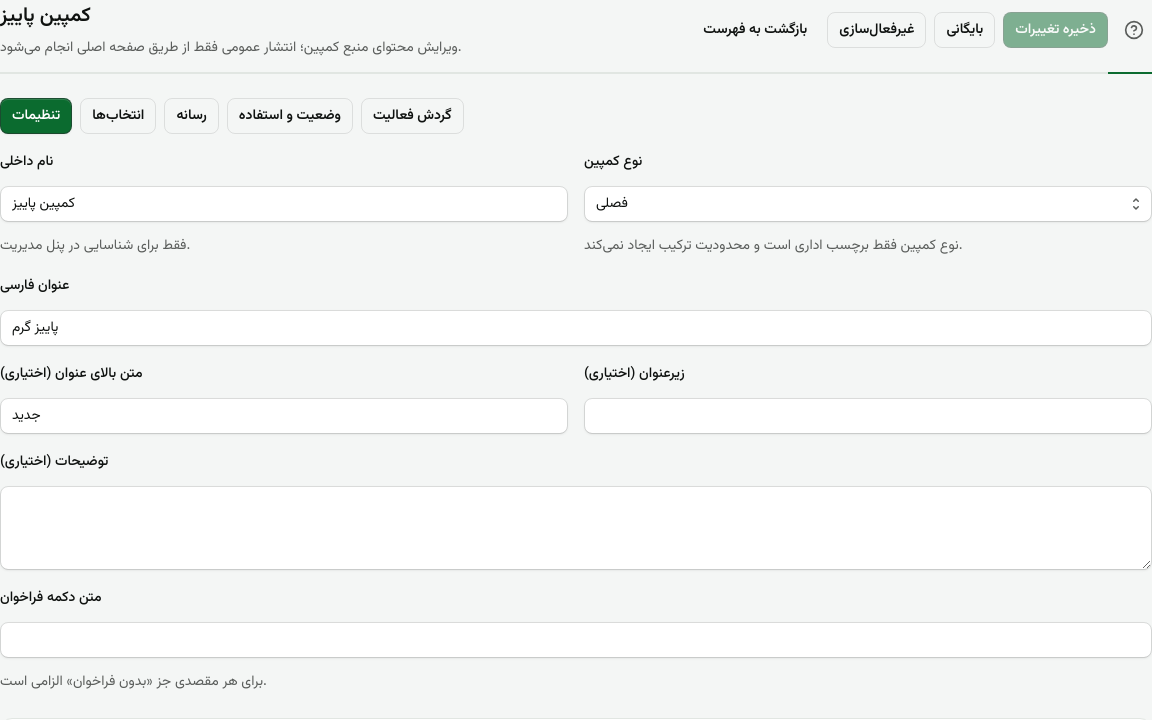
Test case: MerchandisingCampaignEditorPage (SS-275) › opens the selections and media tabs for the full editor
The width and height of the screenshot is (1152, 720).
Expected: the field labelled "نام داخلی" is shown, [0,186,568,222]
What coordinates should you click on to do the following:
click the tab "انتخاب‌ها"
I would click on:
 (118, 116)
Its box is [80,98,156,134].
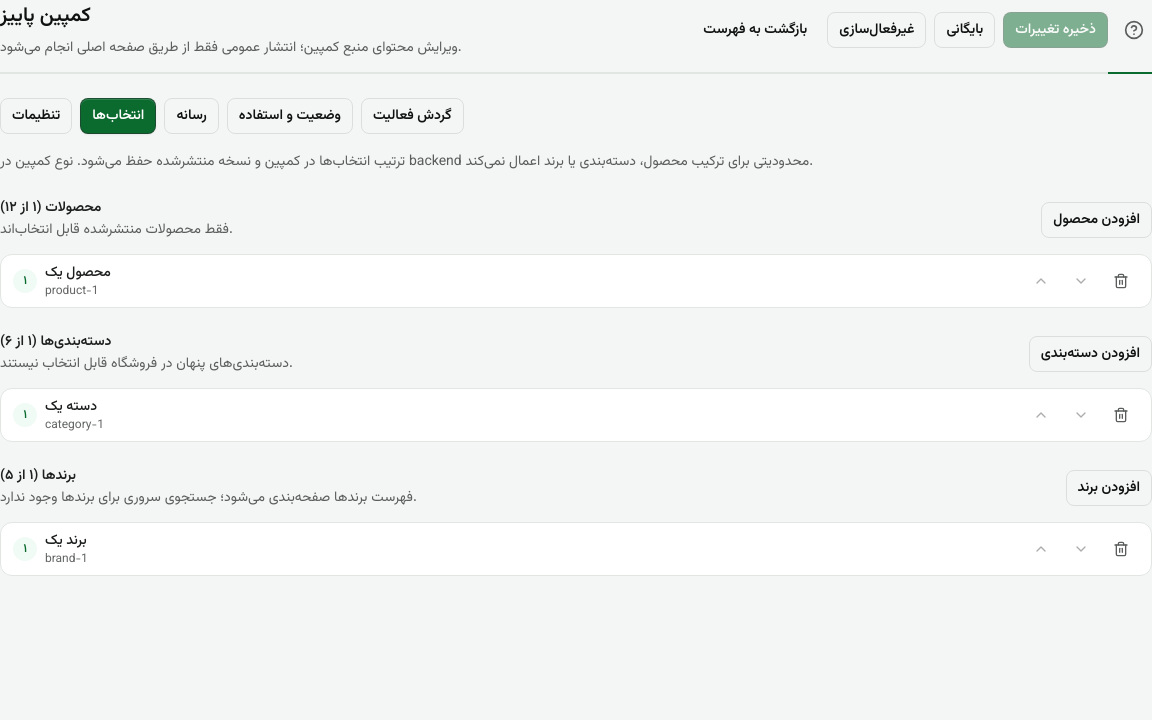
Expected: the text "محصول یک" is shown, [45,262,111,284]
Expected: the text "دسته یک" is shown, [45,396,97,418]
Expected: the text "برند یک" is shown, [45,530,87,552]
What coordinates should you click on to do the following:
click the tab "رسانه"
I would click on:
 (192, 116)
Its box is [164,98,219,134].
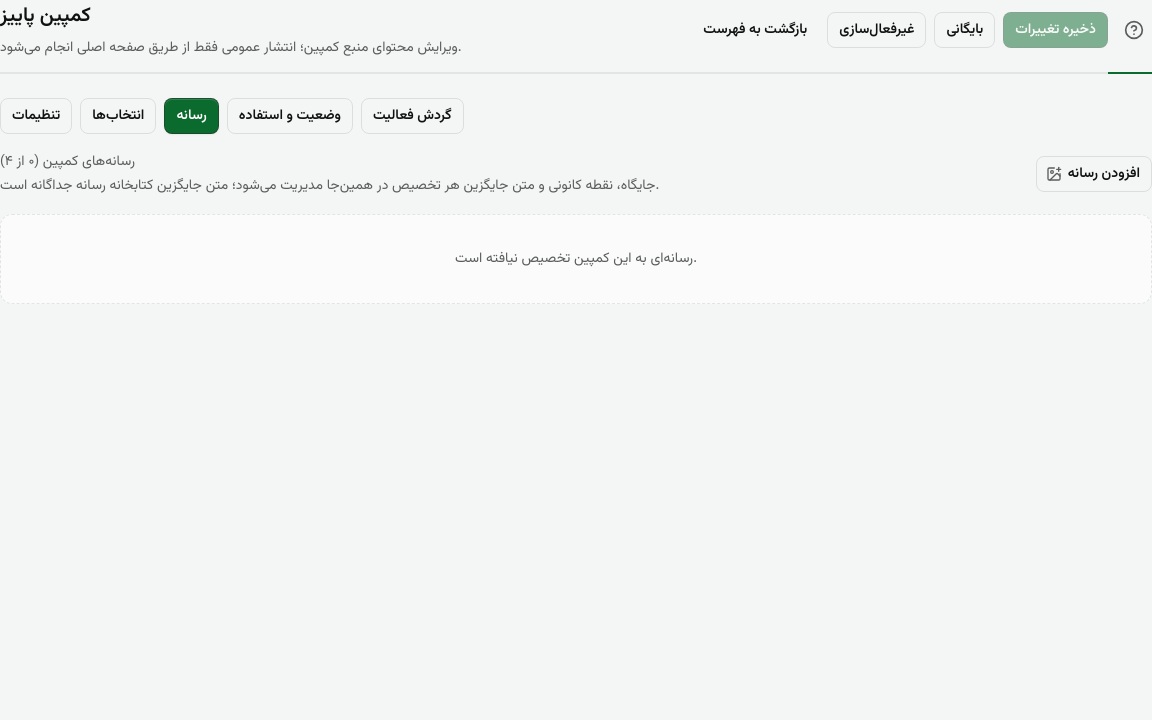
Expected: the text "رسانه‌ای به این کمپین تخصیص نیافته است." is shown, [0,214,1151,304]
